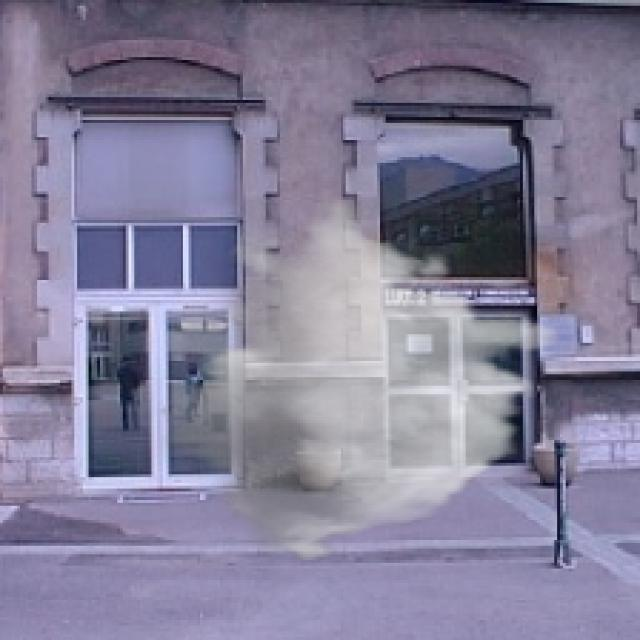Smoke: (151, 197, 563, 566)
